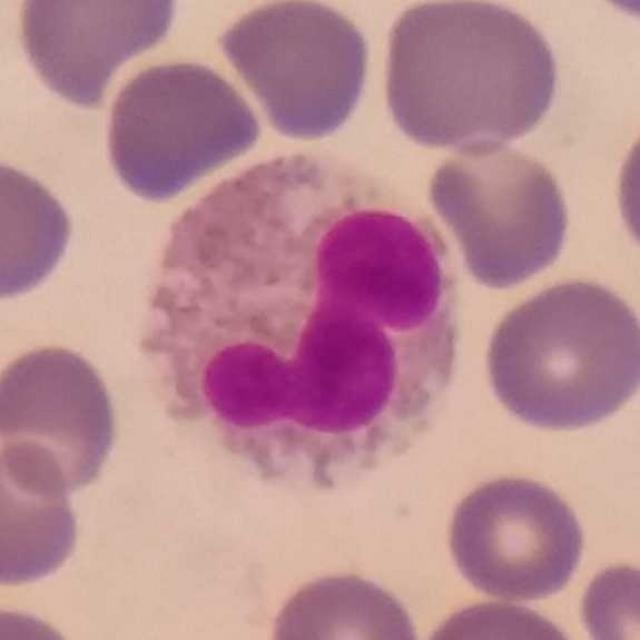eosino: (141, 150, 464, 490)
